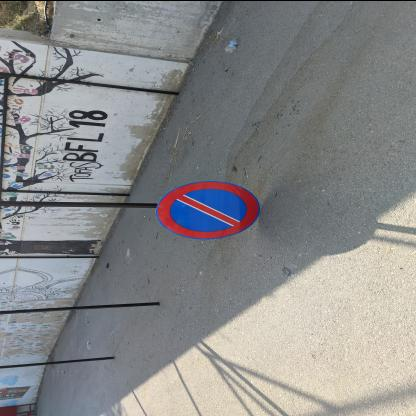No Waiting: (160, 181, 260, 239)
